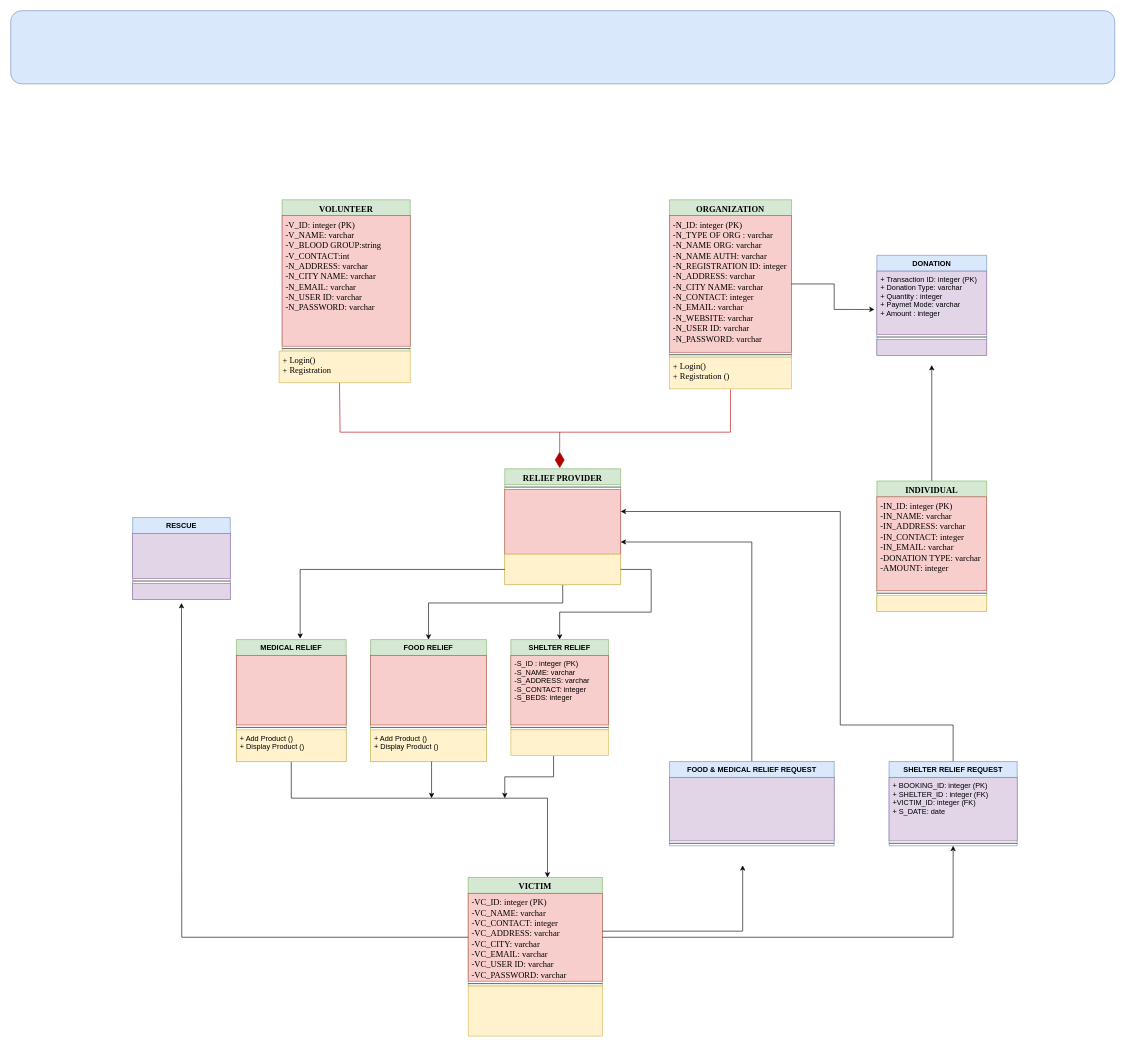
This 1125x1049 diagram has some shape labels left out. The shapes that lost their labels are listed below. From the top down, each one's centre as x and y in pixels, then its label:
At pixel 562 47: "Unified Modeling Language".
At pixel 931 347: "+ Display ()".
At pixel 562 521: "-RP_ID: integer (PK) -Reg_ID : integer (FK)".
At pixel 181 556: "- Group size: integer - Location : varchar - Contact: integer".
At pixel 562 569: "+ Get Request () + Modify ()".
At pixel 181 591: "+ Get Request()".
At pixel 931 603: "+Donate()".
At pixel 291 690: "- M_ID : integer (PK) - M_NAME: varchar - M_QTY: integer".
At pixel 428 690: "- F_ID : integer (PK) - F_NAME: varchar - M_QTY: integer".
At pixel 559 742: "+ Add Shelter () + Display Shelter ()".
At pixel 751 809: "+ REQUEST_ID: integer (PK) + VICTIM_ID: integer (FK) + S_DATE: date".
At pixel 535 1010: "+ Login() + Registration () + Send Relief Request() + Send Rescue Request()".
